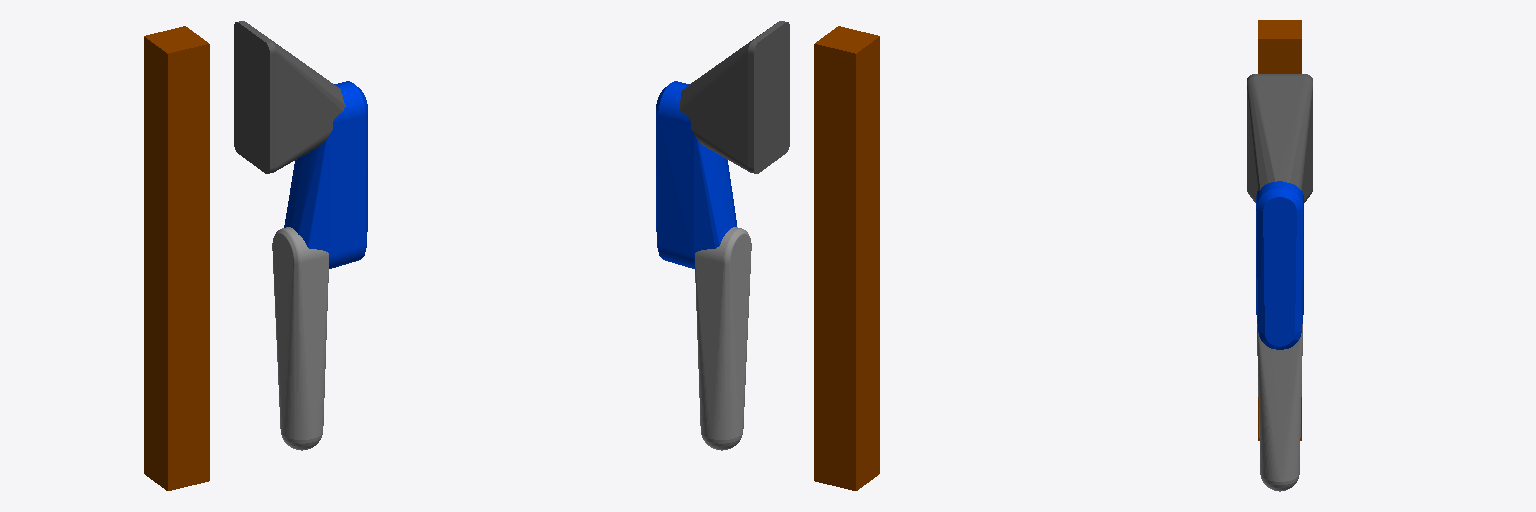
robot.urdf — awesome_leg:
<?xml version="1.0" ?>
<!-- =================================================================================== -->
<!-- |    This document was autogenerated by xacro from awesome_leg_test_rig.urdf.xacro | -->
<!-- |    EDITING THIS FILE BY HAND IS NOT RECOMMENDED                                 | -->
<!-- =================================================================================== -->
<robot name="awesome_leg">
  <!-- <xacro:property name="payload_mass" value="7.38" /> -->
  <!-- color -->
  <material name="darkblue">
    <color rgba="0.0 0.3 0.9 1"/>
  </material>
  <material name="dark">
    <color rgba="0.6 0.6 0.6 1"/>
  </material>
  <material name="sky_blue">
    <color rgba="0.13 0.44 0.70 1"/>
  </material>
  <material name="grey">
    <color rgba=" 0.6 0.6 0.6 1"/>
  </material>
  <material name="black">
    <color rgba="0.4 0.4 0.4 1"/>
  </material>
  <material name="brown">
    <color rgba="0.59 0.29 0.0 1"/>
  </material>
  <!-- xbot2 joint device driver-->
  <gazebo>
    <plugin filename="libxbot2_gz_joint_server.so" name="xbot2_gz_joint_server">
      <pid>
        <gain d="0" name="null_mode" p="0"/>
        <gain d="5" name="small_mot" p="250"/>
        <gain d="10" name="medium_mot" p="1000"/>
        <gain d="10" name="big_mot" p="3000"/>
        <gain name="test_rig2HIP" profile="null_mode"/>
        <gain name="hip_actuation" profile="medium_mot"/>
        <gain name="knee_actuation" profile="medium_mot"/>
      </pid>
    </plugin>
  </gazebo>
  <gazebo>
    <plugin filename="libxbot2_gz_ft_server.so" name="xbot2_ft_driver"/>
  </gazebo>
  <link name="world"/>
  <joint name="world_test_rig" type="fixed">
    <parent link="world"/>
    <child link="test_rig"/>
    <origin xyz="0 0 0.5"/>
  </joint>
  <link name="test_rig">
    <visual>
      <origin rpy="0 0 0" xyz="0 0 0"/>
      <geometry>
        <box size="0.1 0.1 1.0"/>
      </geometry>
      <material name="brown"/>
    </visual>
    <collision>
      <origin rpy="0 0 0" xyz="0 0 0"/>
      <geometry>
        <box size="0.1 0.1 1.0"/>
      </geometry>
    </collision>
    <inertial>
      <mass value="1000.0"/>
      <inertia ixx="0.01" ixy="0.0" ixz="0.0" iyy="0.01" iyz="0.0" izz="0.01"/>
    </inertial>
  </link>
  <joint name="test_rig2base" type="prismatic">
    <parent link="test_rig"/>
    <child link="base_link"/>
    <origin rpy="0.0 0.0 -1.57079632679" xyz="0.18 0 0.25"/>
    <axis xyz="0 0 1"/>
    <dynamics damping="0.0" friction="0.0"/>
    <limit effort="500" lower="-10" upper="10.0" velocity="50.0"/>
  </joint>
  <link name="base_link">
    <visual name="base_link_visual">
      <origin rpy="0.0 0.0 0.0" xyz="0.0 0.0 0.0"/>
      <geometry>
        <mesh filename="package://awesome_leg/description/new_meshes/visual/base.stl" scale="0.1 0.1 0.1"/>
      </geometry>
      <material name="black"/>
    </visual>
    <collision>
      <origin rpy="0.0 0.0 0.0" xyz="0.0 0.0 0.0"/>
      <geometry>
        <mesh filename="package://awesome_leg/description/new_meshes/collision/base.stl" scale="0.1 0.1 0.1"/>
      </geometry>
    </collision>
    <inertial>
      <mass value="4.5477704"/>
      <inertia ixx="0.044624842" ixy="-1.4644877999999999e-05" ixz="3.0225947e-05" iyy="0.02697759" iyz="0.009663635799999999" izz="0.027956754"/>
    </inertial>
  </link>
  <!-- only add joint to base if argument is non-empty -->
  <joint name="hip_pitch1" type="revolute">
    <parent link="base_link"/>
    <child link="femur1"/>
    <axis xyz="0 1 0"/>
    <origin xyz="0 0.21459999999999999 0"/>
    <limit effort="112" lower="-2.4" upper="2.4" velocity="20.0"/>
  </joint>
  <link name="femur1">
    <inertial>
      <origin xyz="0.0 0.0 0.0"/>
      <mass value="3.3712777"/>
      <inertia ixx="0.046647423" ixy="-1.269764e-05" ixz="-3.2745809999999995e-05" iyy="0.043720135" iyz="-0.063299091" izz="0.07579481299999999"/>
    </inertial>
    <visual>
      <origin rpy="0.0 0.0 0.0" xyz="0.0 0.0 0.0"/>
      <geometry>
        <mesh filename="package://awesome_leg/description/new_meshes/visual/femur.stl" scale="0.1 0.1 0.1"/>
      </geometry>
      <material name="darkblue"/>
    </visual>
    <collision>
      <origin rpy="0.0 0.0 0.0" xyz="0.0 0.0 0.0"/>
      <geometry>
        <mesh filename="package://awesome_leg/description/new_meshes/collision/femur.stl" scale="0.1 0.1 0.1"/>
      </geometry>
    </collision>
  </link>
  <joint name="knee_pitch1" type="revolute">
    <parent link="femur1"/>
    <child link="shin1"/>
    <origin rpy="0.0 0.0 0.0" xyz="0.0 -0.1182 -0.3"/>
    <axis xyz="0 1 0"/>
    <limit effort="112" lower="-2.4" upper="2.4" velocity="20.0"/>
  </joint>
  <link name="shin1">
    <inertial>
      <origin xyz="0.0 0.0 0.0"/>
      <mass value="1.3106594"/>
      <inertia ixx="0.040133964999999994" ixy="4.6219082e-08" ixz="-3.043232e-07" iyy="0.040269285" iyz="0.0013816329" izz="0.0015274496"/>
    </inertial>
    <visual>
      <origin rpy="0.0 0.0 0.0" xyz="0.0 0.0 0.0"/>
      <geometry>
        <mesh filename="package://awesome_leg/description/new_meshes/visual/shin.stl" scale="0.1 0.1 0.1"/>
      </geometry>
      <material name="grey"/>
    </visual>
    <collision>
      <origin rpy="0.0 0.0 0.0" xyz="0.0 0.0 0.0"/>
      <geometry>
        <mesh filename="package://awesome_leg/description/new_meshes/collision/shin.stl" scale="0.1 0.1 0.1"/>
      </geometry>
    </collision>
  </link>
  <joint name="tip_joint1" type="fixed">
    <parent link="shin1"/>
    <child link="tip1"/>
    <origin xyz="0.0 0.0233 -0.451"/>
  </joint>
  <link name="tip1"/>
  <!-- <transmission name="hip_pitch${id}">
            <type>transmission_interface/SimpleTransmission</type>
            <joint name="hip_pitch_1">
                <hardwareInterface>hardware_interface/EffortJointInterface</hardwareInterface>
            </joint>
            <actuator name="hip_motor">
                <hardwareInterface>hardware_interface/EffortJointInterface</hardwareInterface>
                <mechanicalReduction>1</mechanicalReduction>
            </actuator>
        </transmission>
        <transmission name="knee_trans">
            <type>transmission_interface/SimpleTransmission</type>
            <joint name="knee_pitch_1">
                <hardwareInterface>hardware_interface/EffortJointInterface</hardwareInterface>
            </joint>
            <actuator name="knee_motor">
                <hardwareInterface>hardware_interface/EffortJointInterface</hardwareInterface>
                <mechanicalReduction>1</mechanicalReduction>
            </actuator>
        </transmission> -->
</robot>

--- What the picture shows (computed from the rendered views, not written in the file) ---
Views: 3 orthographic renders of the robot side by side, from view 1: azimuth 30°, elevation 25°; view 2: azimuth 150°, elevation 25°; view 3: azimuth 270°, elevation 25°.
Model awesome_leg with 6 links and 5 joints (2 revolute, 1 prismatic, 2 fixed), rooted at world, posed all joints at 0.
Links seen in each view (by area): view 1: test_rig, base_link, shin1, femur1; view 2: test_rig, base_link, shin1, femur1; view 3: femur1, base_link, shin1, test_rig.
Boxes of the visible links, x1,y1,x2,y2 form: test_rig: (144, 26, 209, 490); base_link: (234, 21, 345, 173); shin1: (272, 227, 328, 450); femur1: (284, 81, 367, 268); test_rig: (814, 26, 879, 490); base_link: (680, 21, 789, 173); shin1: (695, 227, 751, 450); femur1: (656, 81, 736, 268); femur1: (1256, 181, 1303, 349); base_link: (1247, 74, 1312, 202); shin1: (1257, 324, 1302, 491); test_rig: (1258, 20, 1301, 440).
Size in the robot's own frame: 0.4866 by 0.15 by 1 metres.
Meshes: 3 distinct files referenced, 3 mesh visuals loaded (3 binary STL).
